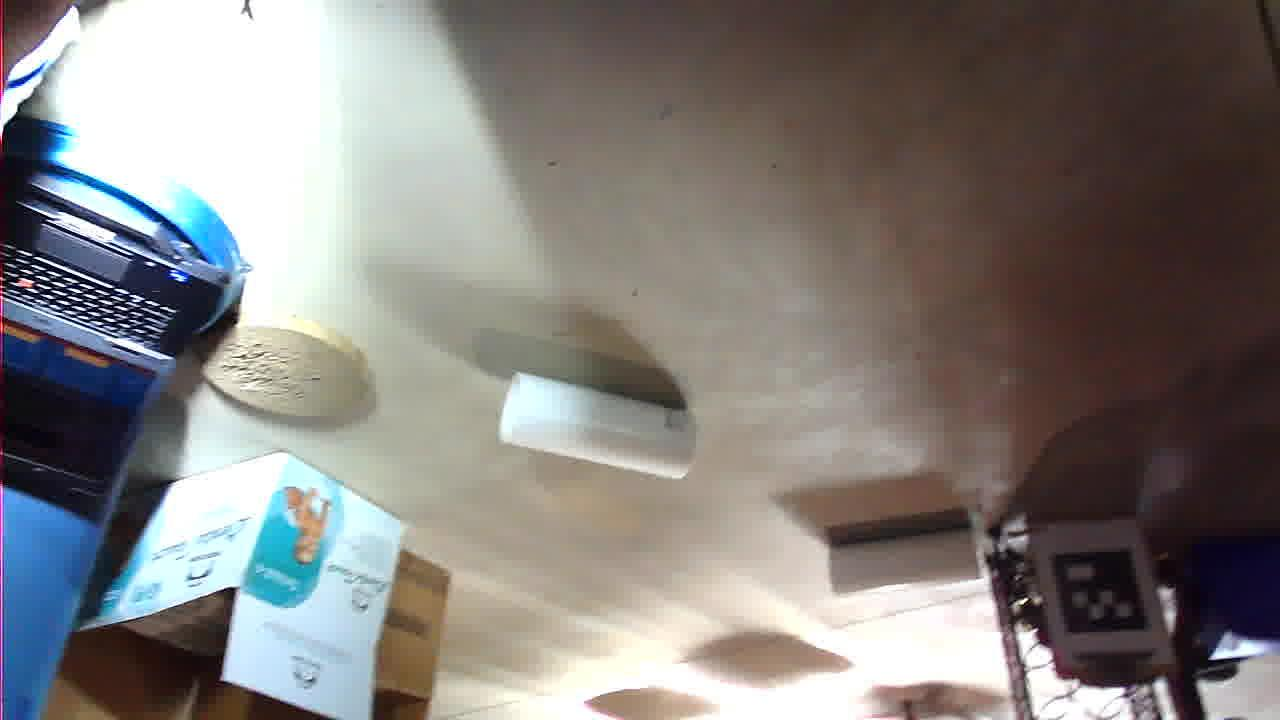coral: (585, 241, 782, 347), (299, 120, 451, 196)
